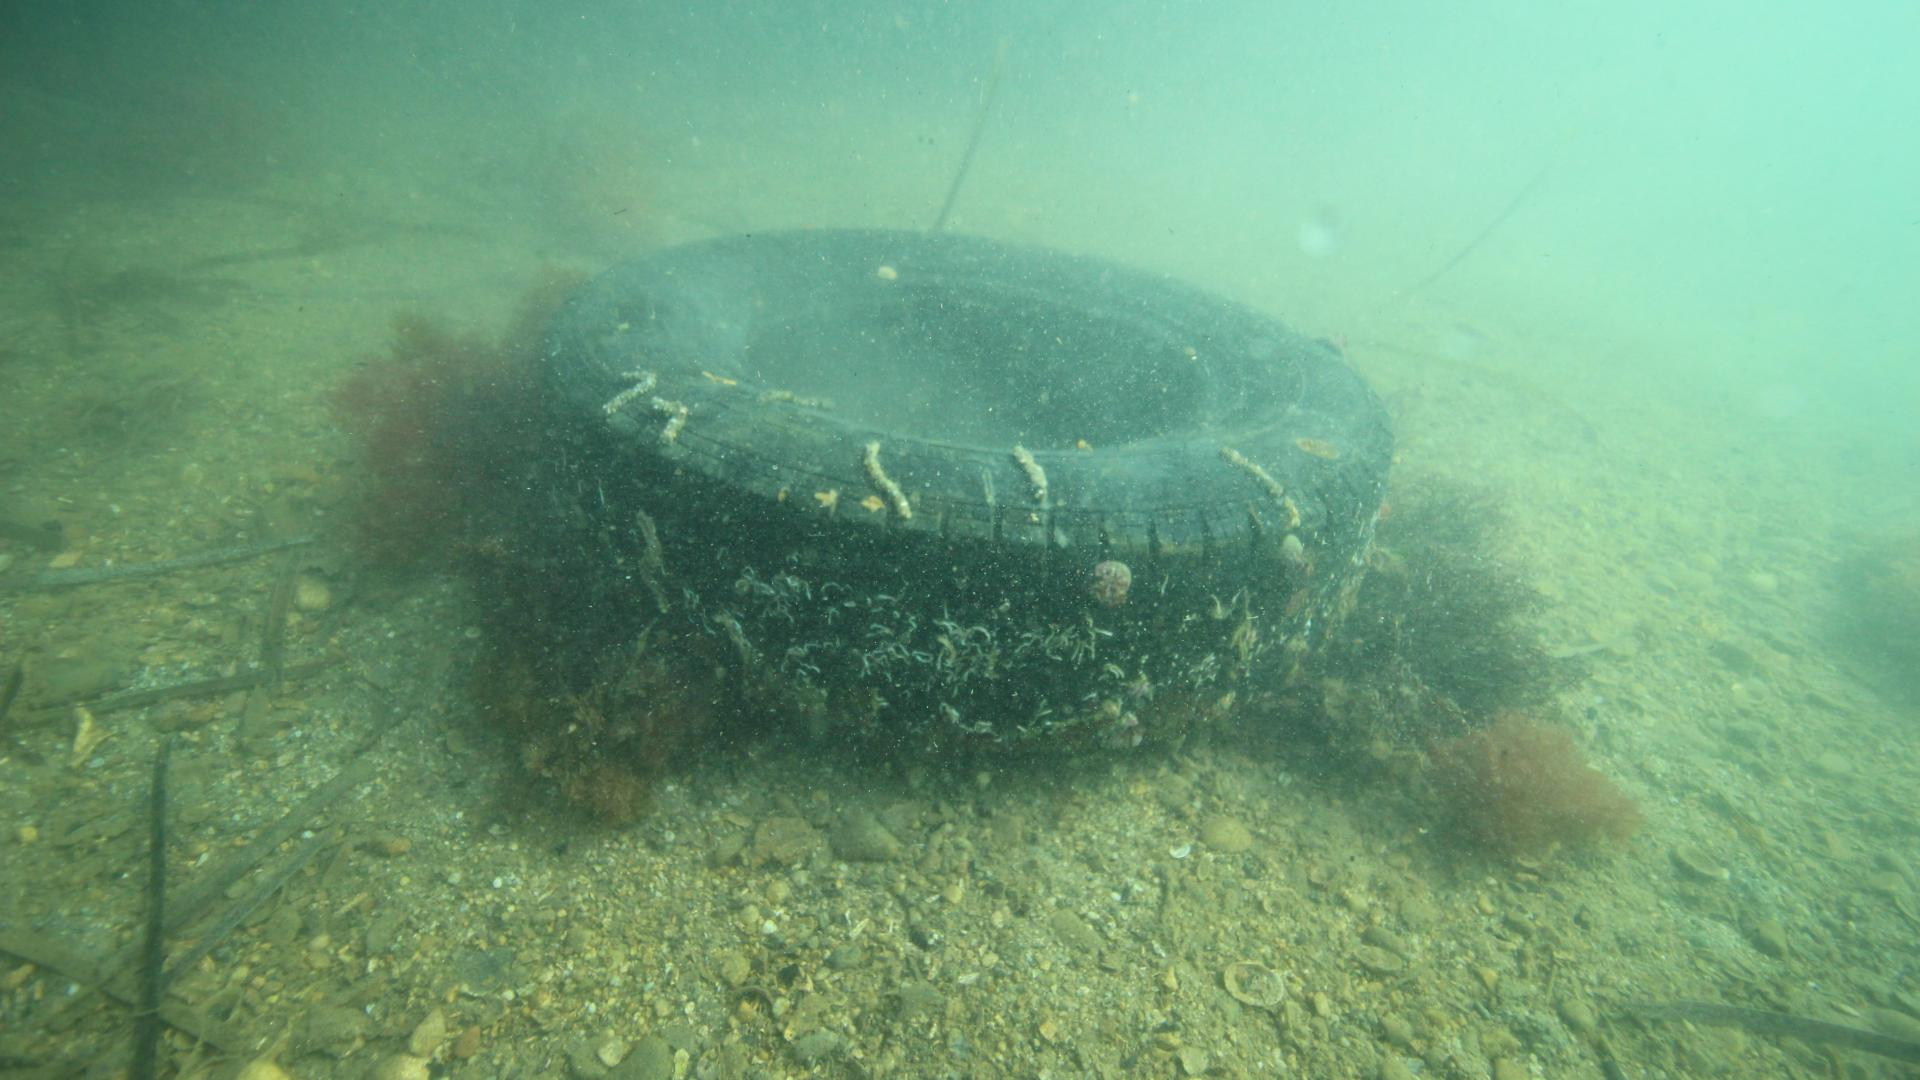tire: (539, 223, 1399, 765)
